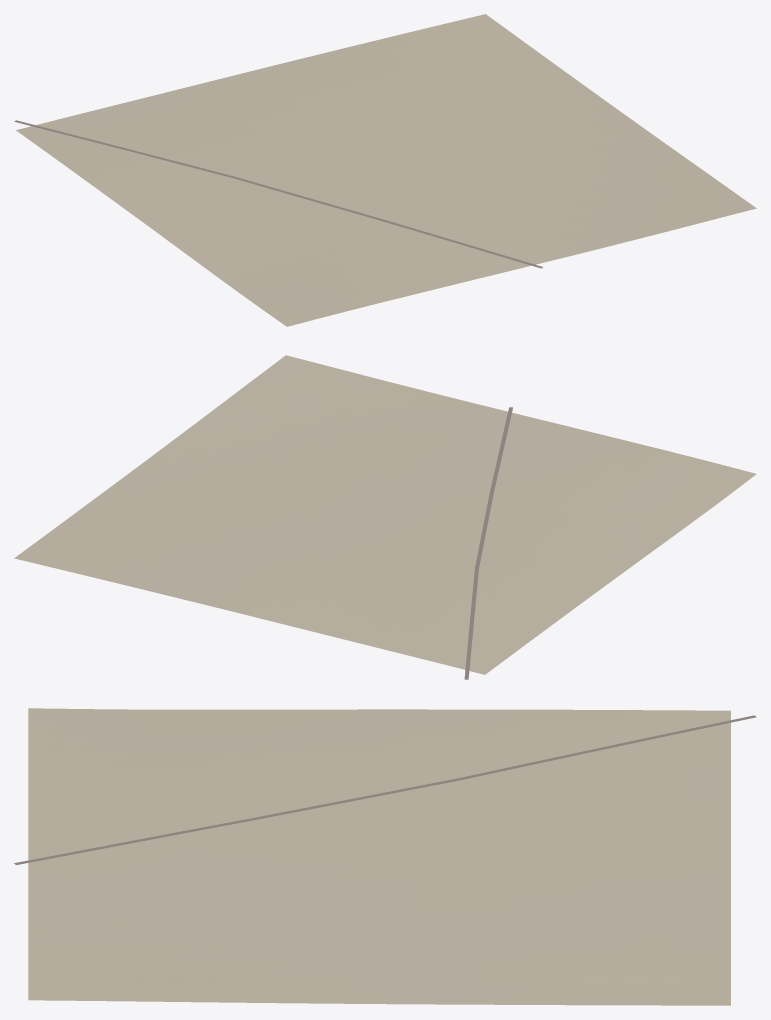
Rendered from bolak_-32_3.glb.
3 renders of one model, top to bottom at view 1: azimuth 30°, elevation 25°; view 2: azimuth 150°, elevation 25°; view 3: azimuth 270°, elevation 25°, orthographic. The views are drawn at different scales.
Visible parts, largest first — view 1: Yer_Tuproq-col, Temir_Yol; view 2: Yer_Tuproq-col, Temir_Yol; view 3: Yer_Tuproq-col, Temir_Yol.
Part boxes in pixels (x1,y1,x2,y2): Yer_Tuproq-col: [16, 14, 756, 326]; Temir_Yol: [14, 120, 543, 268]; Yer_Tuproq-col: [14, 355, 756, 674]; Temir_Yol: [464, 407, 512, 679]; Yer_Tuproq-col: [28, 708, 730, 1005]; Temir_Yol: [14, 715, 756, 864].
Size of the model in its own units: 400 by 4.65 by 423.
